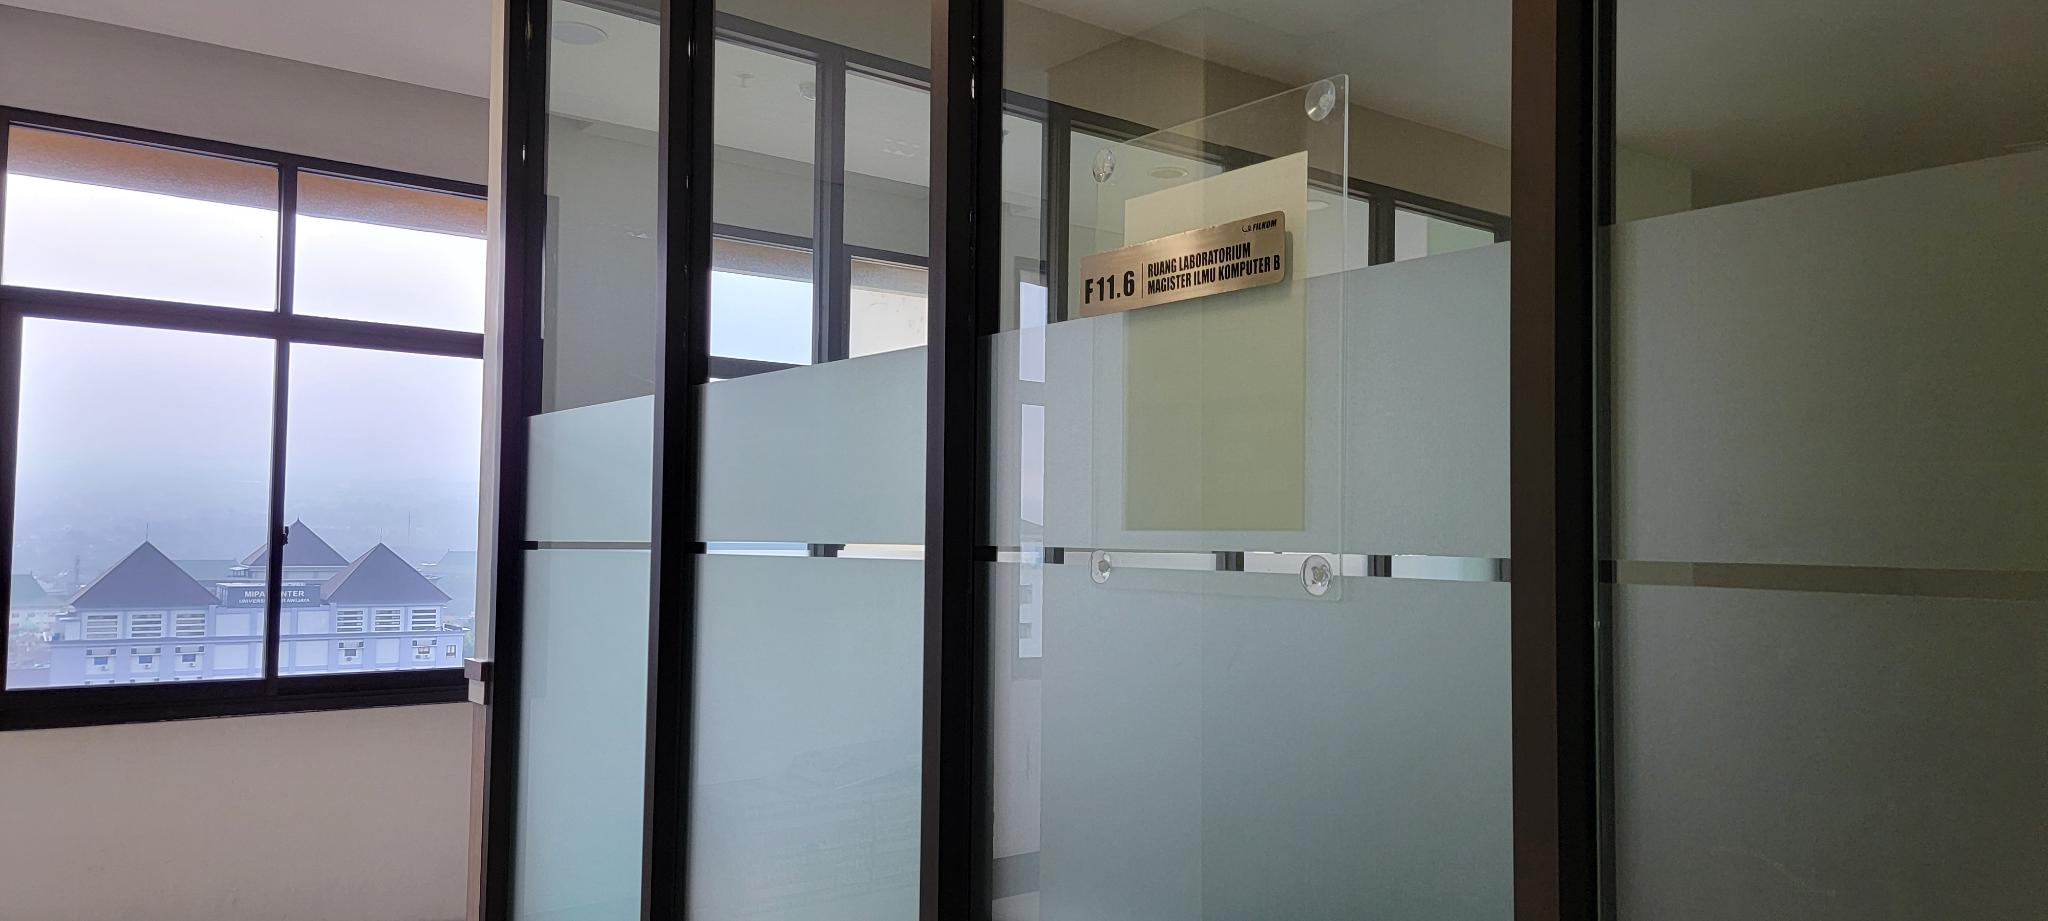plate: (1078, 209, 1287, 317)
